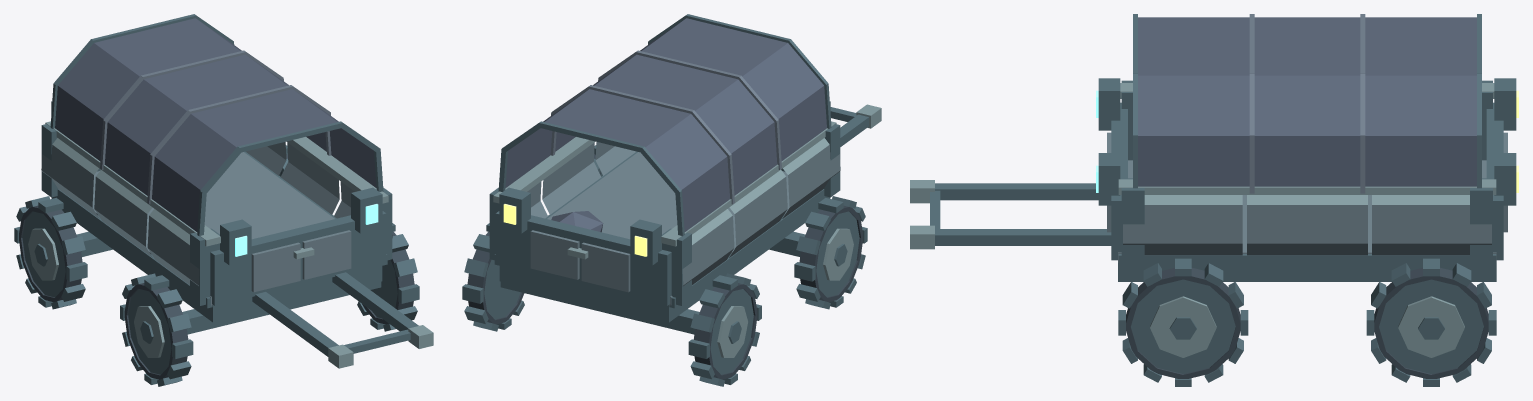
Rendered from crossing_wagon.glb.
3 renders of one model, left to right at view 1: azimuth 30°, elevation 25°; view 2: azimuth 150°, elevation 25°; view 3: azimuth 270°, elevation 25°, orthographic. The views are drawn at different scales.
Parts seen in each view (by area): view 1: Basalt fibre canopy, Fired ceramic cargo deck, Pressed alloy end frame, Pressed alloy underframe, Bevelled ceramic cargo panel.001, Bevelled ceramic cargo panel.002, Bevelled ceramic cargo panel, Bevelled ceramic cargo panel.004, Fired ceramic end plate, Fired ceramic end plate.001, Alloy sill strip, Alloy draught rail (+30 smaller); view 2: Basalt fibre canopy, Fired ceramic cargo deck, Pressed alloy end frame.001, Pressed alloy underframe, Bevelled ceramic cargo panel.001, Bevelled ceramic cargo panel, Bevelled ceramic cargo panel.002, Bevelled ceramic cargo panel.004, Fired ceramic end plate.002, Fired ceramic end plate.003, Alloy sill strip, Reinforced wagon axle.001 (+28 smaller); view 3: Basalt fibre canopy, Bevelled ceramic cargo panel.004, Bevelled ceramic cargo panel.003, Bevelled ceramic cargo panel.005, Forged wheel disc.003, Forged wheel disc.001, Alloy sill strip.001, Pressed alloy underframe, Ceramic cap rail.001, Alloy draught rail.001, Alloy draught rail, Frost-glazed hub collar.001 (+14 smaller).
Part boxes in pixels (left/top/right/bottom): Basalt fibre canopy: left=55, top=18, right=376, bottom=231; Fired ceramic cargo deck: left=92, top=152, right=334, bottom=305; Pressed alloy end frame: left=210, top=211, right=386, bottom=305; Pressed alloy underframe: left=51, top=196, right=382, bottom=322; Bevelled ceramic cargo panel.001: left=94, top=170, right=152, bottom=257; Bevelled ceramic cargo panel.002: left=41, top=138, right=99, bottom=218; Bevelled ceramic cargo panel: left=147, top=209, right=199, bottom=285; Bevelled ceramic cargo panel.004: left=280, top=142, right=339, bottom=214; Fired ceramic end plate: left=251, top=242, right=300, bottom=292; Fired ceramic end plate.001: left=302, top=230, right=351, bottom=279; Alloy sill strip: left=55, top=189, right=212, bottom=308; Alloy draught rail: left=252, top=292, right=338, bottom=356; Basalt fibre canopy: left=505, top=18, right=826, bottom=231; Fired ceramic cargo deck: left=547, top=152, right=789, bottom=305; Pressed alloy end frame.001: left=495, top=211, right=671, bottom=305; Pressed alloy underframe: left=499, top=197, right=830, bottom=322; Bevelled ceramic cargo panel.001: left=729, top=170, right=787, bottom=257; Bevelled ceramic cargo panel: left=782, top=138, right=840, bottom=218; Bevelled ceramic cargo panel.002: left=682, top=209, right=734, bottom=285; Bevelled ceramic cargo panel.004: left=542, top=142, right=601, bottom=214; Fired ceramic end plate.002: left=581, top=242, right=630, bottom=292; Fired ceramic end plate.003: left=530, top=230, right=579, bottom=279; Alloy sill strip: left=669, top=189, right=826, bottom=308; Reinforced wagon axle.001: left=500, top=281, right=699, bottom=334; Basalt fibre canopy: left=1138, top=17, right=1476, bottom=186; Bevelled ceramic cargo panel.004: left=1247, top=195, right=1367, bottom=255; Bevelled ceramic cargo panel.003: left=1123, top=195, right=1242, bottom=255; Bevelled ceramic cargo panel.005: left=1372, top=195, right=1491, bottom=255; Forged wheel disc.003: left=1379, top=279, right=1483, bottom=373; Forged wheel disc.001: left=1131, top=279, right=1235, bottom=373; Alloy sill strip.001: left=1118, top=254, right=1496, bottom=266; Pressed alloy underframe: left=1118, top=262, right=1496, bottom=281; Ceramic cap rail.001: left=1118, top=179, right=1496, bottom=194; Alloy draught rail.001: left=935, top=229, right=1111, bottom=245; Alloy draught rail: left=935, top=183, right=1098, bottom=200; Frost-glazed hub collar.001: left=1150, top=296, right=1216, bottom=357.
Bounding box in the file's own units: 3.22 × 2.89 × 5.84.
